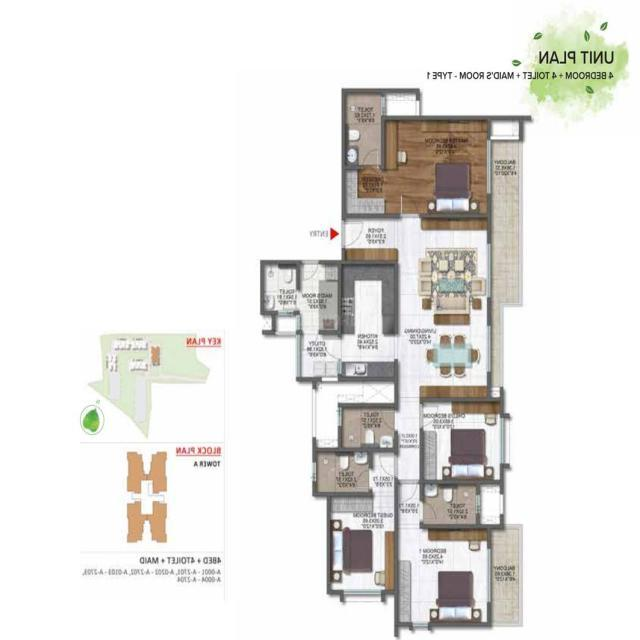Balcony-Sitout: (488, 136, 526, 301), (492, 521, 522, 625)
Bedroom: (418, 398, 506, 489), (298, 263, 339, 335)
Bedroom with Toilet: (342, 87, 490, 217)
Dining: (426, 333, 480, 380)
Enterance-Foyer: (305, 215, 381, 259)
Kitchen: (339, 263, 398, 382)
Living: (395, 526, 493, 630)
Toilet: (344, 88, 384, 169), (420, 481, 482, 530), (311, 450, 371, 497), (339, 404, 399, 450), (259, 259, 296, 316)
Utility: (294, 330, 343, 380)
